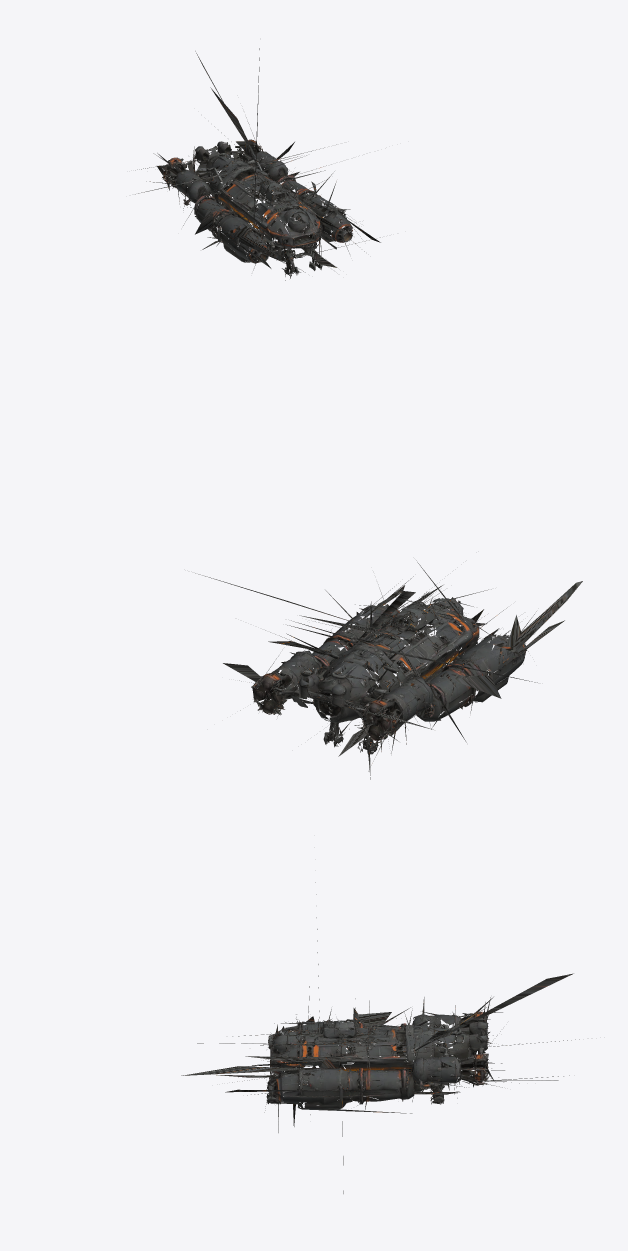
Rendered from bomber-v2.glb.
3 views of the same model, one above another, from view 1: azimuth 30°, elevation 25°; view 2: azimuth 150°, elevation 25°; view 3: azimuth 270°, elevation 25° (orthographic). The views are drawn at different scales.
Parts seen in each view (by area): view 1: tripo_node_b8072a78-60b3-4db8-8e8f-15fd2714e001; view 2: tripo_node_b8072a78-60b3-4db8-8e8f-15fd2714e001; view 3: tripo_node_b8072a78-60b3-4db8-8e8f-15fd2714e001.
Part boxes in pixels (x1,y1,x2,y2): tripo_node_b8072a78-60b3-4db8-8e8f-15fd2714e001: [135, 48, 380, 280]; tripo_node_b8072a78-60b3-4db8-8e8f-15fd2714e001: [195, 560, 582, 779]; tripo_node_b8072a78-60b3-4db8-8e8f-15fd2714e001: [181, 882, 579, 1193].
Size of the model in its own units: 2.99 by 1.72 by 2.7.
Materials: 1 (1 with a texture image).
